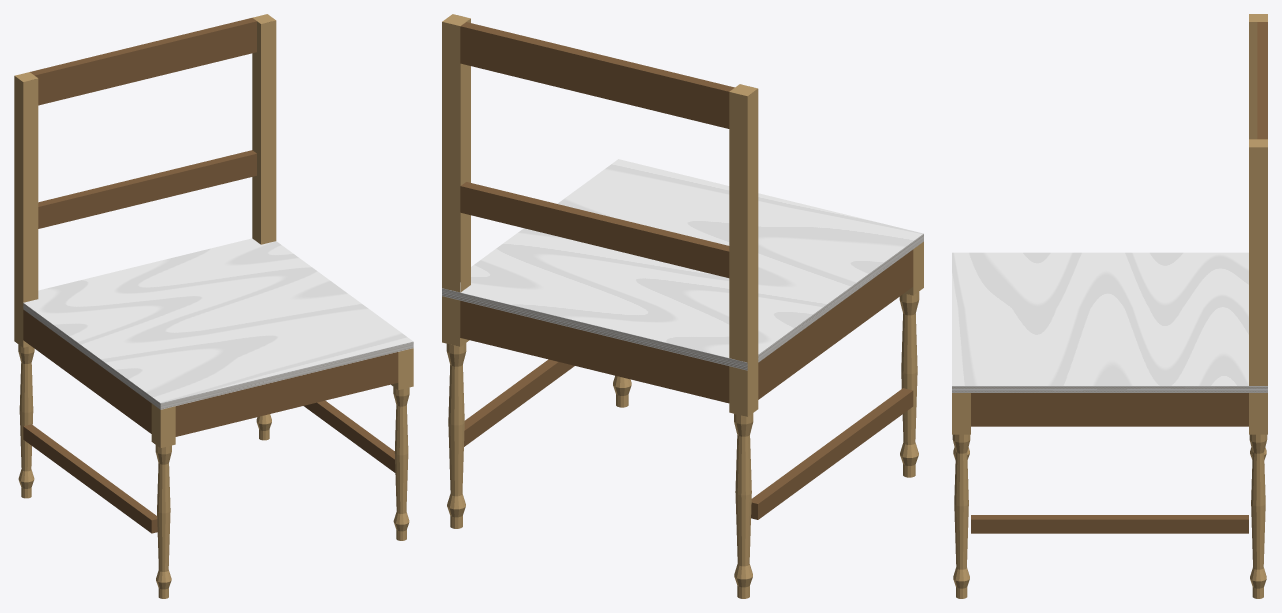
Rendered from FET-DKC-std.glb.
3 views of the same model, side by side, from view 1: azimuth 30°, elevation 25°; view 2: azimuth 150°, elevation 25°; view 3: azimuth 270°, elevation 25° (orthographic). The views are drawn at different scales.
Parts seen in each view (by area): view 1: seat:sheet:eyJtIjoicGx5Iiwic2lkZSI6ImZhY2UiLCJzZWVkIjo2LCJ2Z, back-top:pbr, leg-bl:pbr, rail-f:pbr, back-mid:pbr, leg-br:pbr, rail-l:pbr, stretcher-l:pbr, leg-fl:pbr, leg-fr:pbr, seat:sheet:eyJtIjoicGx5Iiwic2lkZSI6ImVkZ2UtbG9uZyIsInNlZWQiO, stretcher-r:pbr (+1 smaller); view 2: seat:sheet:eyJtIjoicGx5Iiwic2lkZSI6ImZhY2UiLCJzZWVkIjo2LCJ2Z, leg-bl:pbr, back-top:pbr, leg-br:pbr, rail-b:pbr, back-mid:pbr, rail-l:pbr, stretcher-l:pbr, leg-fl:pbr, seat:sheet:eyJtIjoicGx5Iiwic2lkZSI6ImVkZ2UtbG9uZyIsInNlZWQiO, stretcher-r:pbr, seat:sheet:eyJtIjoicGx5Iiwic2lkZSI6ImVkZ2UtZW5kIiwic2VlZCI6N; view 3: seat:sheet:eyJtIjoicGx5Iiwic2lkZSI6ImZhY2UiLCJzZWVkIjo2LCJ2Z, rail-r:pbr, leg-br:pbr, stretcher-r:pbr, leg-fr:pbr, seat:sheet:eyJtIjoicGx5Iiwic2lkZSI6ImVkZ2UtZW5kIiwic2VlZCI6N, back-top:pbr, leg-bl:pbr.
Part boxes in pixels (x1=…): seat:sheet:eyJtIjoicGx5Iiwic2lkZSI6ImZhY2UiLCJzZWVkIjo2LCJ2Z: x1=23, y1=238, x2=412, y2=403; back-top:pbr: x1=30, y1=18, x2=256, y2=105; leg-bl:pbr: x1=14, y1=72, x2=38, y2=498; rail-f:pbr: x1=175, y1=352, x2=398, y2=436; back-mid:pbr: x1=38, y1=150, x2=256, y2=228; leg-br:pbr: x1=252, y1=14, x2=276, y2=440; rail-l:pbr: x1=23, y1=309, x2=151, y2=433; stretcher-l:pbr: x1=23, y1=424, x2=157, y2=533; leg-fl:pbr: x1=151, y1=403, x2=175, y2=598; leg-fr:pbr: x1=391, y1=348, x2=413, y2=540; seat:sheet:eyJtIjoicGx5Iiwic2lkZSI6ImVkZ2UtbG9uZyIsInNlZWQiO: x1=160, y1=341, x2=413, y2=409; stretcher-r:pbr: x1=304, y1=400, x2=395, y2=472; seat:sheet:eyJtIjoicGx5Iiwic2lkZSI6ImZhY2UiLCJzZWVkIjo2LCJ2Z: x1=460, y1=159, x2=923, y2=357; leg-bl:pbr: x1=729, y1=84, x2=758, y2=598; back-top:pbr: x1=460, y1=22, x2=734, y2=128; leg-br:pbr: x1=442, y1=14, x2=470, y2=528; rail-b:pbr: x1=460, y1=300, x2=729, y2=403; back-mid:pbr: x1=460, y1=182, x2=729, y2=277; rail-l:pbr: x1=758, y1=249, x2=913, y2=399; stretcher-l:pbr: x1=751, y1=388, x2=913, y2=519; leg-fl:pbr: x1=899, y1=242, x2=923, y2=477; seat:sheet:eyJtIjoicGx5Iiwic2lkZSI6ImVkZ2UtbG9uZyIsInNlZWQiO: x1=442, y1=288, x2=747, y2=370; stretcher-r:pbr: x1=464, y1=359, x2=574, y2=446; seat:sheet:eyJtIjoicGx5Iiwic2lkZSI6ImVkZ2UtZW5kIiwic2VlZCI6N: x1=758, y1=234, x2=923, y2=362; seat:sheet:eyJtIjoicGx5Iiwic2lkZSI6ImZhY2UiLCJzZWVkIjo2LCJ2Z: x1=952, y1=252, x2=1248, y2=385; rail-r:pbr: x1=971, y1=393, x2=1248, y2=426; leg-br:pbr: x1=1249, y1=139, x2=1267, y2=598; stretcher-r:pbr: x1=971, y1=515, x2=1248, y2=533; leg-fr:pbr: x1=952, y1=393, x2=970, y2=598; seat:sheet:eyJtIjoicGx5Iiwic2lkZSI6ImVkZ2UtZW5kIiwic2VlZCI6N: x1=952, y1=386, x2=1267, y2=392; back-top:pbr: x1=1257, y1=22, x2=1267, y2=139; leg-bl:pbr: x1=1249, y1=14, x2=1267, y2=459.
Bounding box in the file's own units: 0.6002 × 0.95 × 0.6.
Materials: 15 (3 with a texture image).
